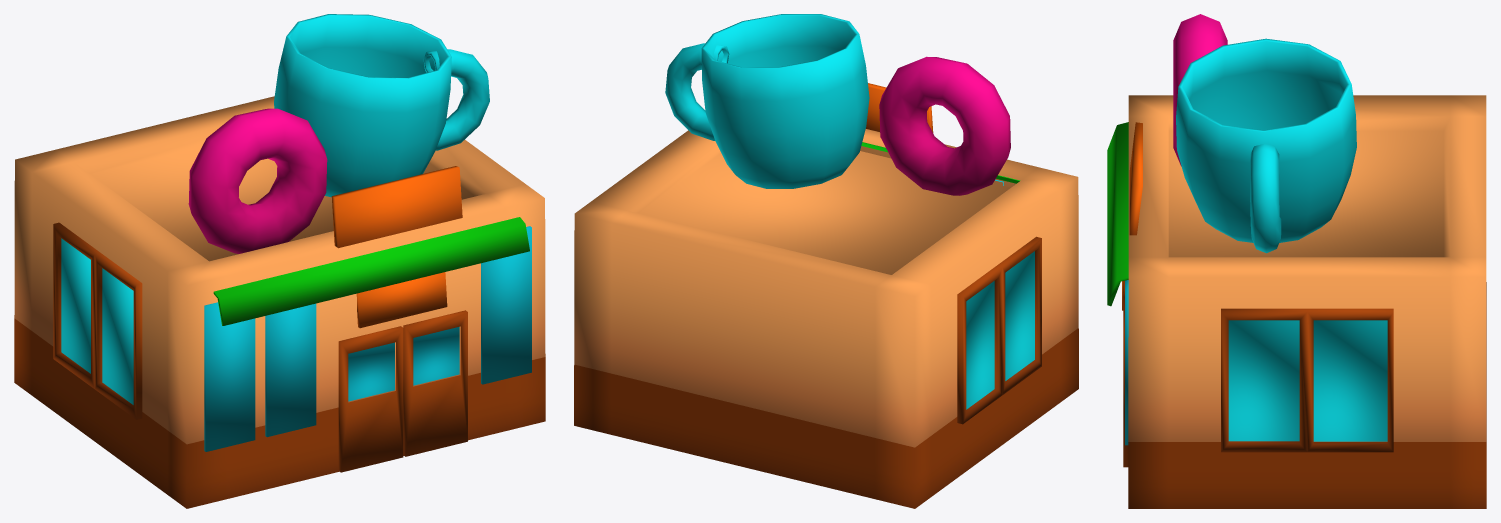
Rendered from SimpleStore.fbx.
The picture shows the model from 3 angles, left to right: view 1: azimuth 30°, elevation 25°; view 2: azimuth 150°, elevation 25°; view 3: azimuth 270°, elevation 25°; orthographic projection. The views are drawn at different scales.
Visible parts, largest first — view 1: SimpleStore; view 2: SimpleStore; view 3: SimpleStore.
Boxes of the visible parts, x1,y1,x2,y2 form: SimpleStore: [14, 14, 545, 508]; SimpleStore: [574, 14, 1078, 508]; SimpleStore: [1107, 14, 1486, 508].
Size of the model in its own units: 350 by 326 by 296.
1 material, 1 textured.
